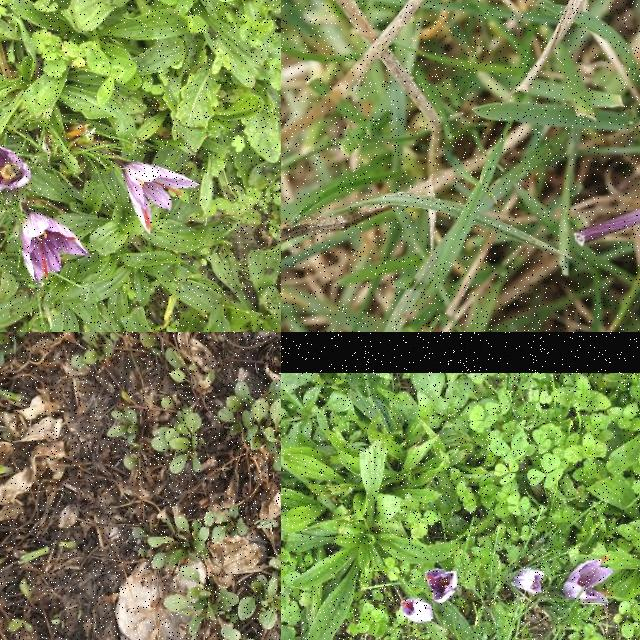flower: (124, 162, 200, 234), (21, 212, 90, 286), (562, 558, 616, 604), (0, 144, 32, 197), (426, 568, 458, 604), (512, 568, 544, 594), (401, 600, 434, 624)
